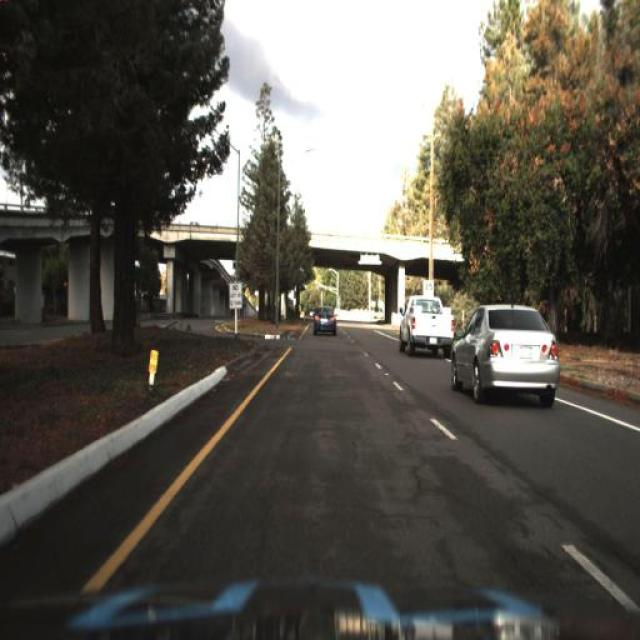car: (447, 292, 562, 412), (397, 289, 455, 365), (304, 298, 340, 338)
